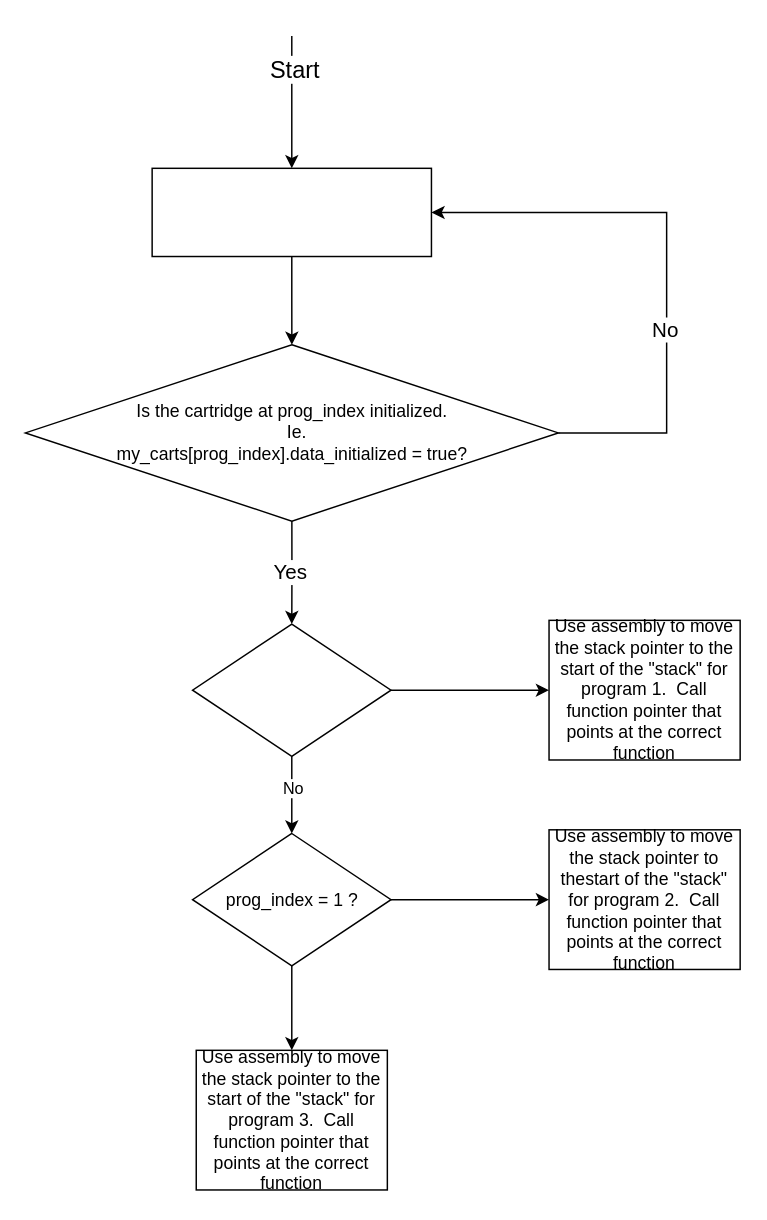
Image size: 767x1220. Some labels were removed from this diagram. Here are the shapes that lost their labels. From the top down, the centre of each, then its label:
At point (291, 212): "Increment prog_index. If prog_index > 3 set it back to 0".
At point (291, 689): "prog_index = 0 ?".
